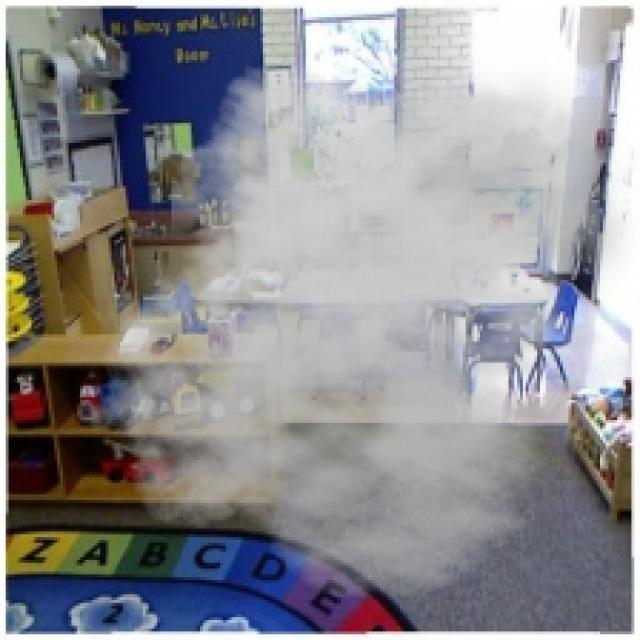Smoke: (85, 46, 638, 603)
